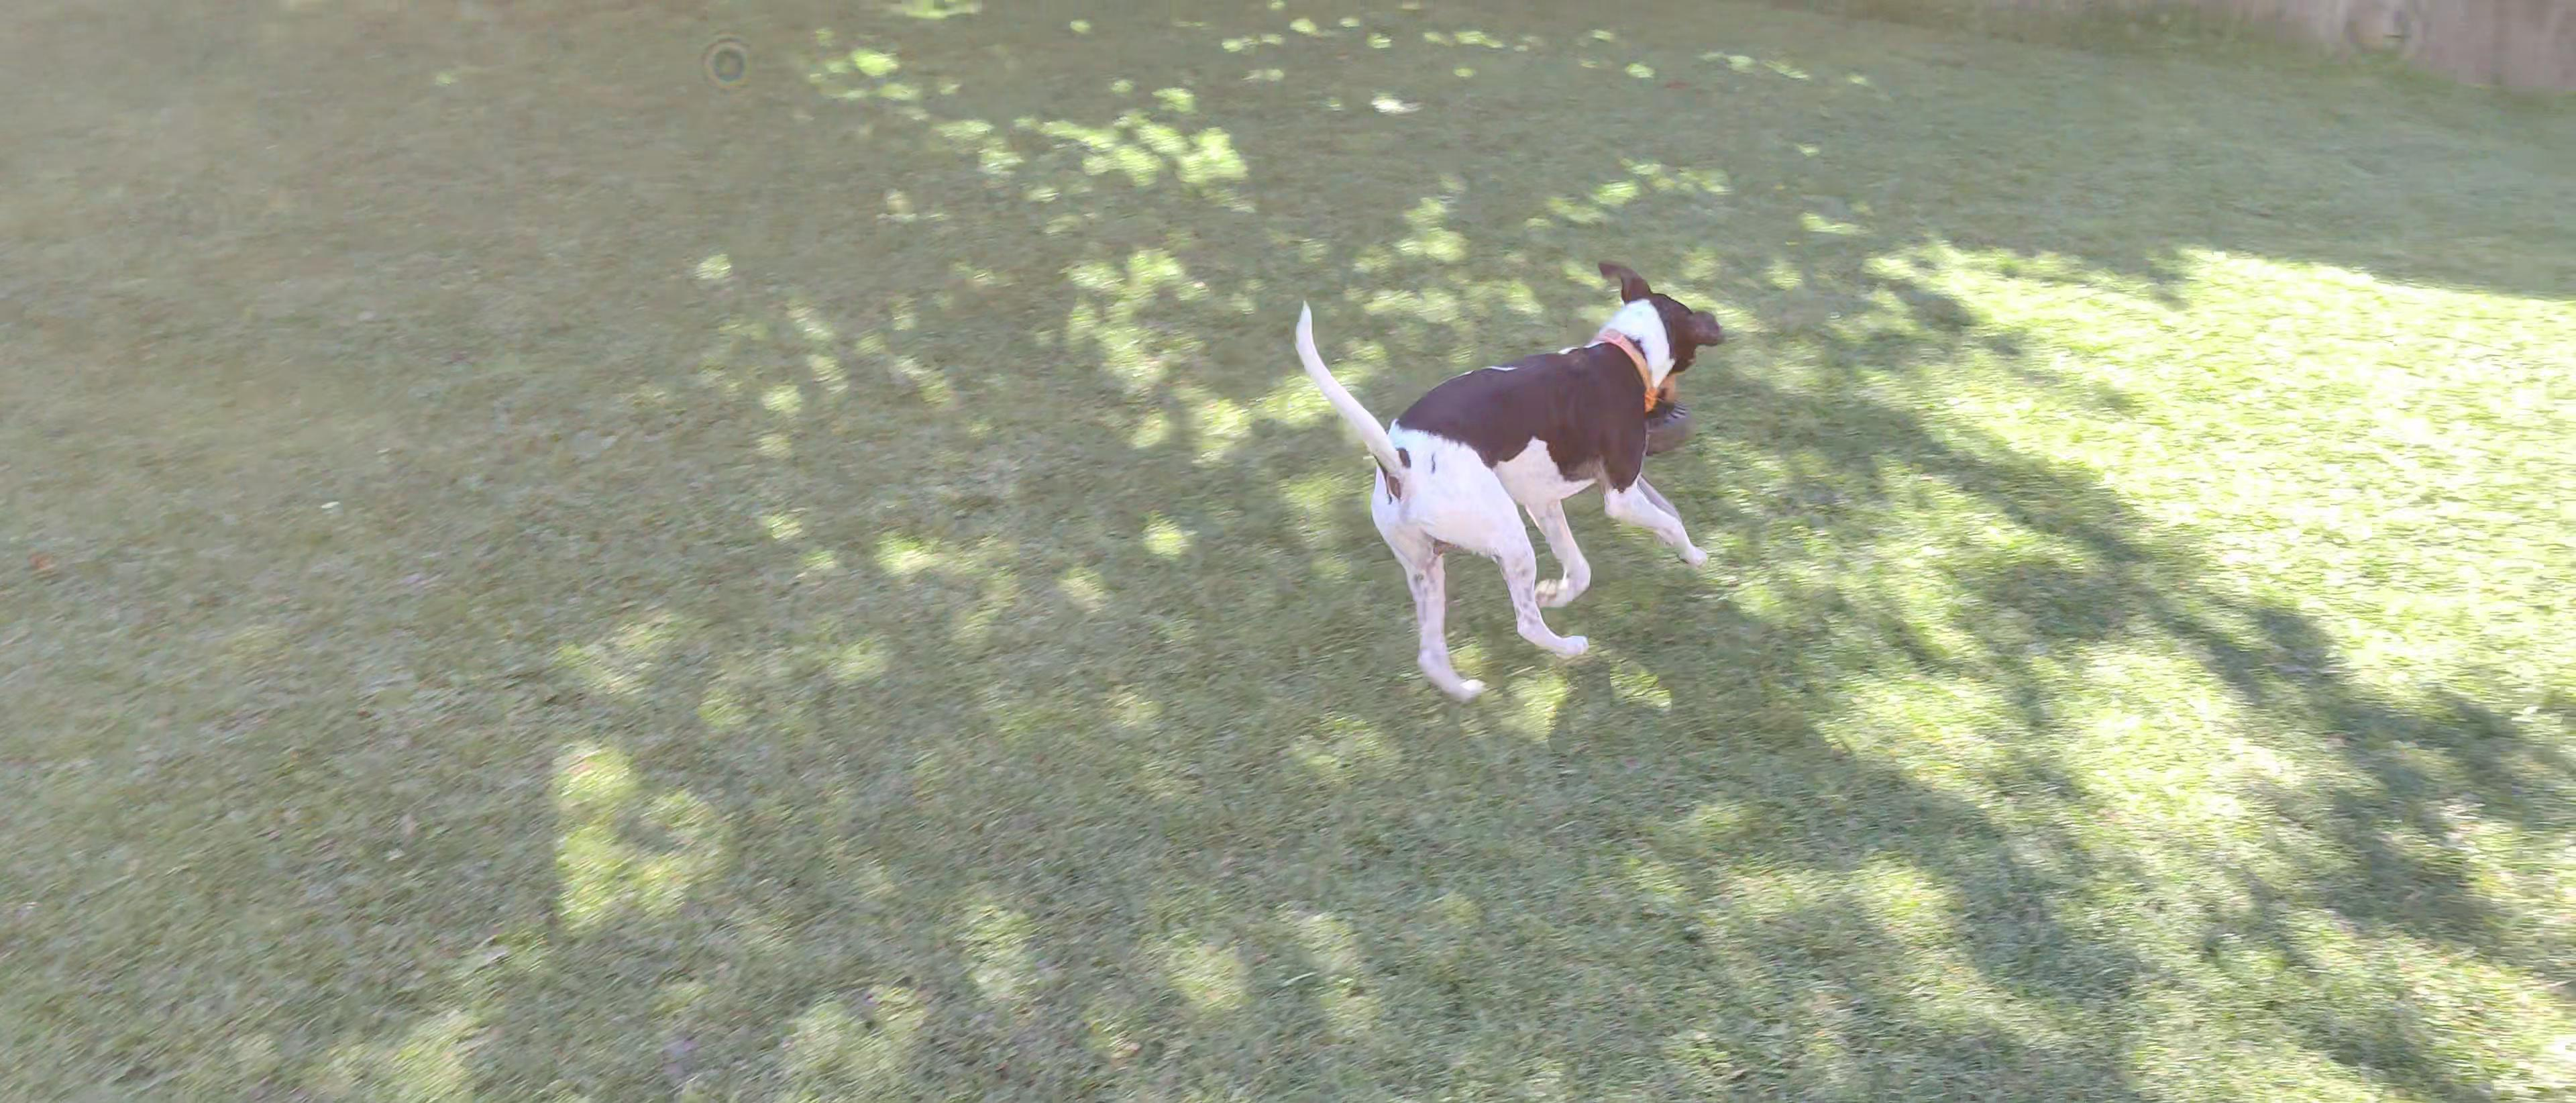Dog: (1286, 258, 1730, 710)
